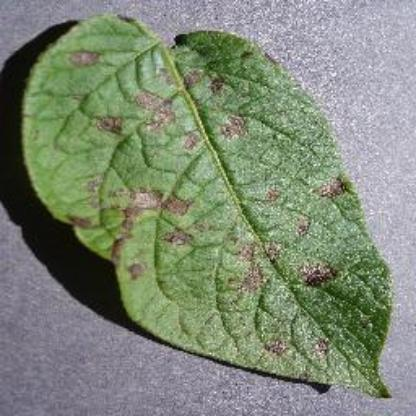Early-Blight: (19, 6, 397, 400)
